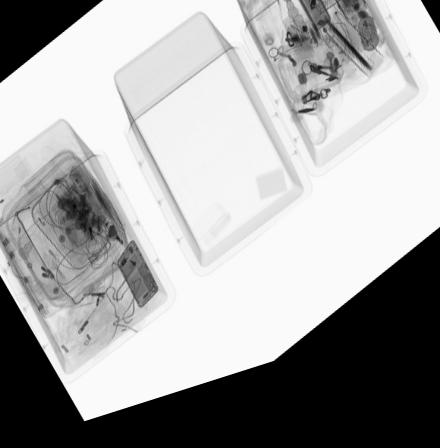Lighter: (75, 179, 92, 204)
